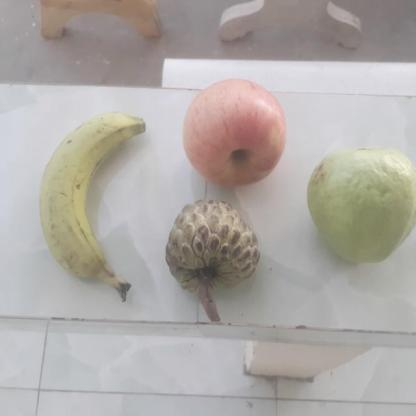annona: (167, 200, 267, 304)
apple: (180, 80, 292, 185)
banana: (41, 112, 147, 287)
guava: (312, 149, 416, 262)
